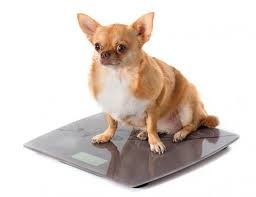chihuahua: (59, 6, 229, 172)
